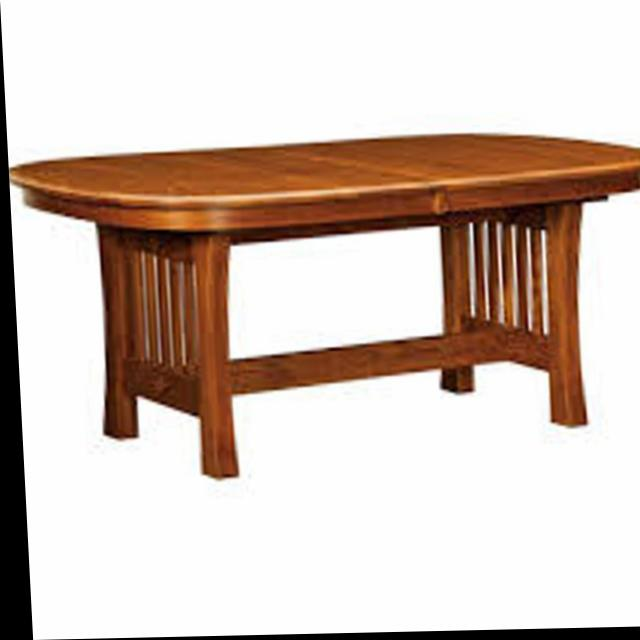Table: (5, 121, 640, 504)
